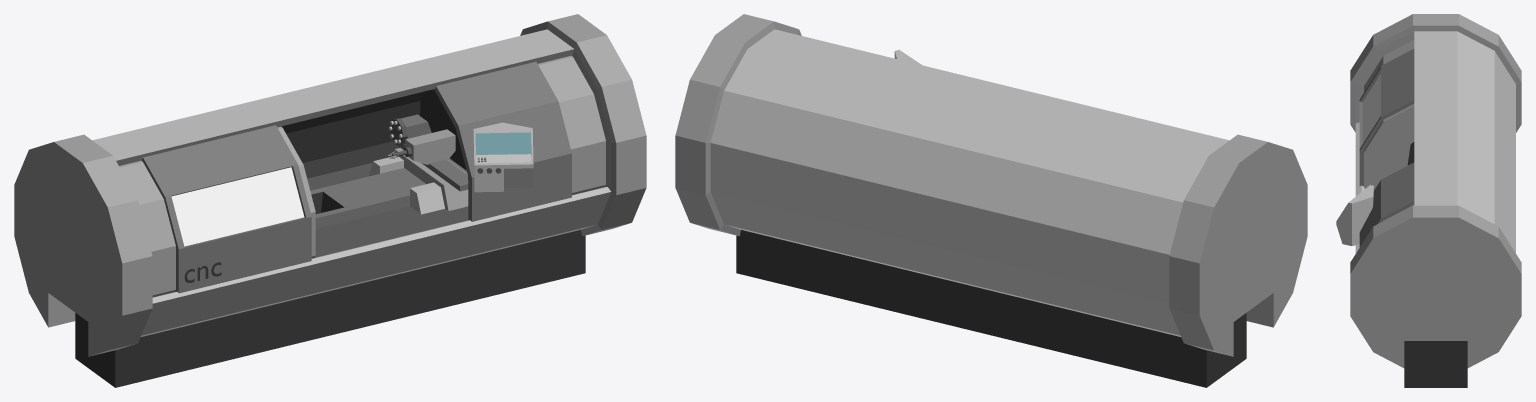
File: CNCMachine.glb
3 renders of one model, left to right at view 1: azimuth 30°, elevation 25°; view 2: azimuth 150°, elevation 25°; view 3: azimuth 270°, elevation 25°, orthographic. The views are drawn at different scales.
Visible parts, largest first — view 1: CNCBody, CNCDoor, CNCWindow; view 2: CNCBody; view 3: CNCBody, CNCDoor, CNCWindow.
Part boxes in pixels (x1,y1,x2,y2): CNCBody: (14,14,646,387); CNCDoor: (141,125,311,293); CNCWindow: (171,167,304,246); CNCBody: (675,14,1307,387); CNCBody: (1336,14,1521,387); CNCDoor: (1359,49,1414,186); CNCWindow: (1362,74,1380,143).
Size of the model in its own units: 2.86 by 1.19 by 1.1.
Materials: 2 (1 with a texture image).
